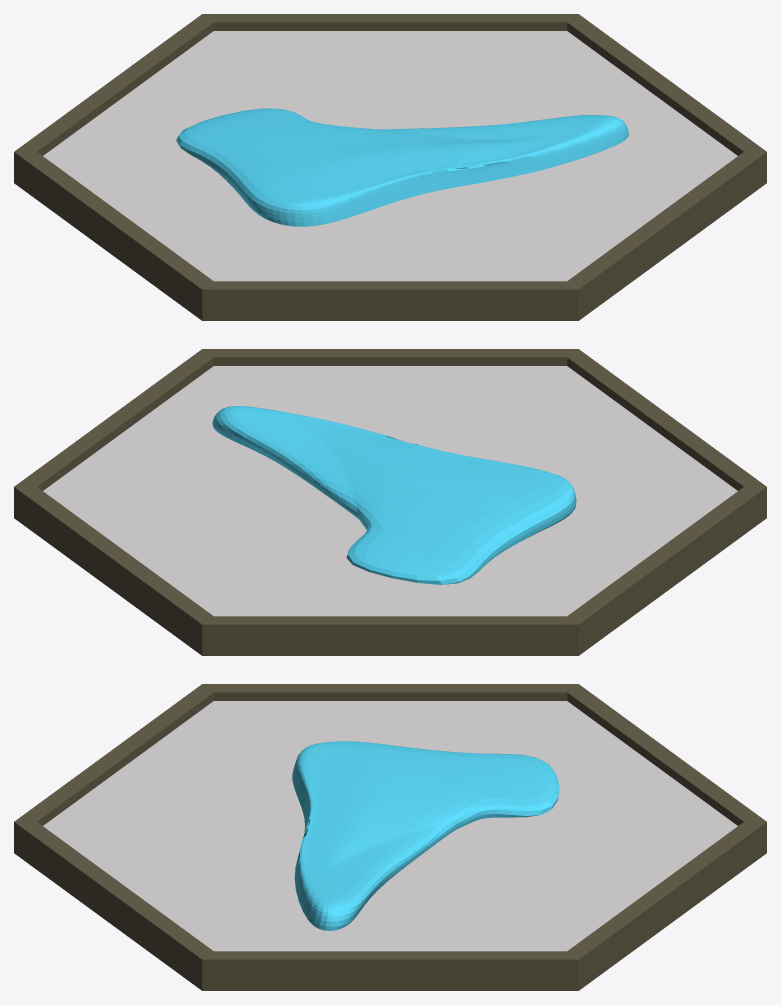
File: PlusDice.fbx
3 views of the same model, one above another, from view 1: azimuth 30°, elevation 25°; view 2: azimuth 150°, elevation 25°; view 3: azimuth 270°, elevation 25° (orthographic).
Parts seen in each view (by area): view 1: DicePlus; view 2: DicePlus; view 3: DicePlus.
Boxes of the visible parts, x1=… form: DicePlus: x1=14, y1=14, x2=766, y2=320; DicePlus: x1=14, y1=349, x2=766, y2=655; DicePlus: x1=14, y1=684, x2=766, y2=990.
Size of the model in its own units: 314 by 22.57 by 363.
